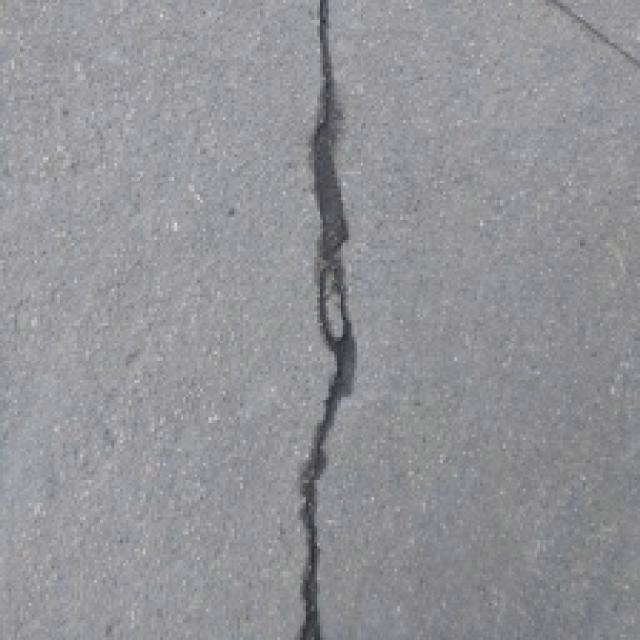crack: (260, 0, 388, 640)
